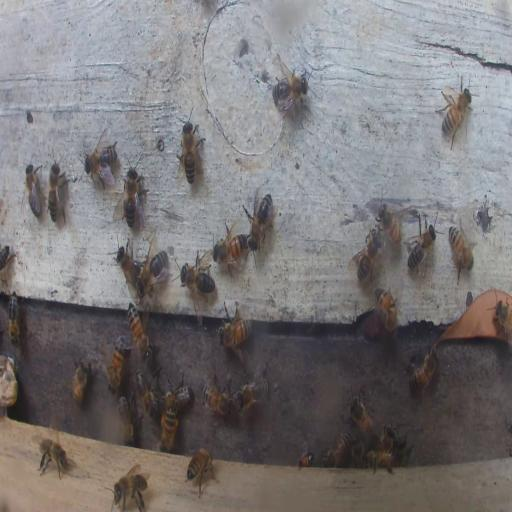bee: (83, 128, 121, 189), (438, 80, 472, 145), (242, 190, 274, 252), (405, 217, 439, 275), (177, 109, 202, 187), (271, 65, 310, 114), (348, 228, 384, 280), (446, 220, 476, 280), (213, 226, 250, 274), (46, 152, 69, 228), (112, 469, 150, 511), (180, 252, 214, 297), (185, 447, 215, 497), (135, 250, 167, 296), (127, 302, 151, 363), (408, 344, 438, 392), (123, 164, 145, 228), (374, 196, 402, 246), (38, 436, 68, 478), (201, 383, 235, 420), (218, 312, 252, 349), (235, 372, 268, 410), (348, 390, 374, 436), (320, 432, 354, 466), (134, 369, 158, 417), (115, 243, 138, 292), (374, 287, 399, 332), (24, 159, 43, 218), (162, 376, 191, 414), (160, 404, 178, 455), (108, 341, 125, 394), (71, 358, 89, 406), (118, 394, 135, 444), (493, 300, 512, 341), (8, 292, 20, 347), (365, 449, 394, 471), (380, 429, 402, 452), (389, 435, 410, 459), (351, 437, 365, 466), (298, 450, 315, 467), (1, 249, 11, 274)
